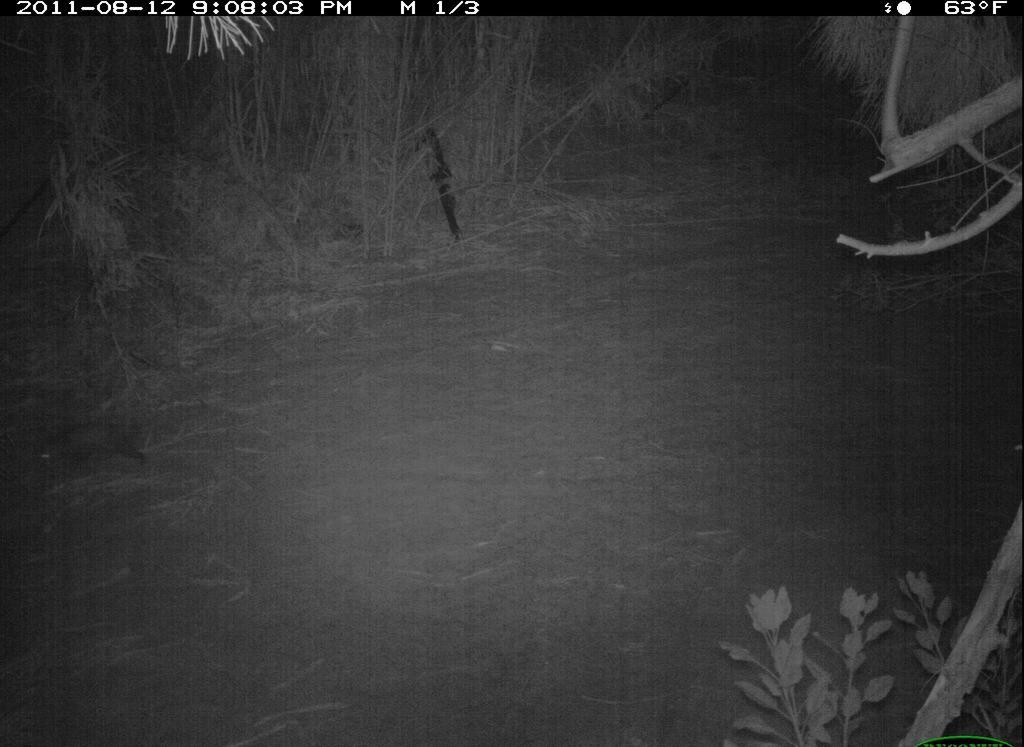opossum: (30, 410, 152, 487)
